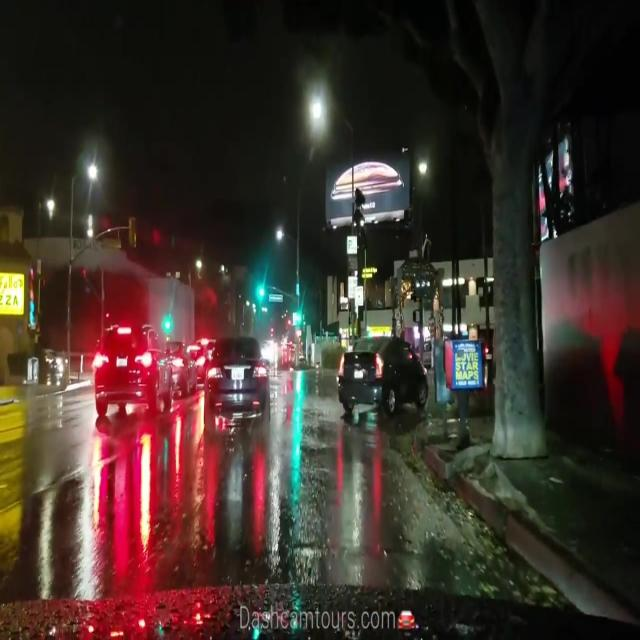Car: (336, 337, 428, 418), (91, 325, 170, 410), (201, 334, 268, 425), (167, 334, 195, 396)
